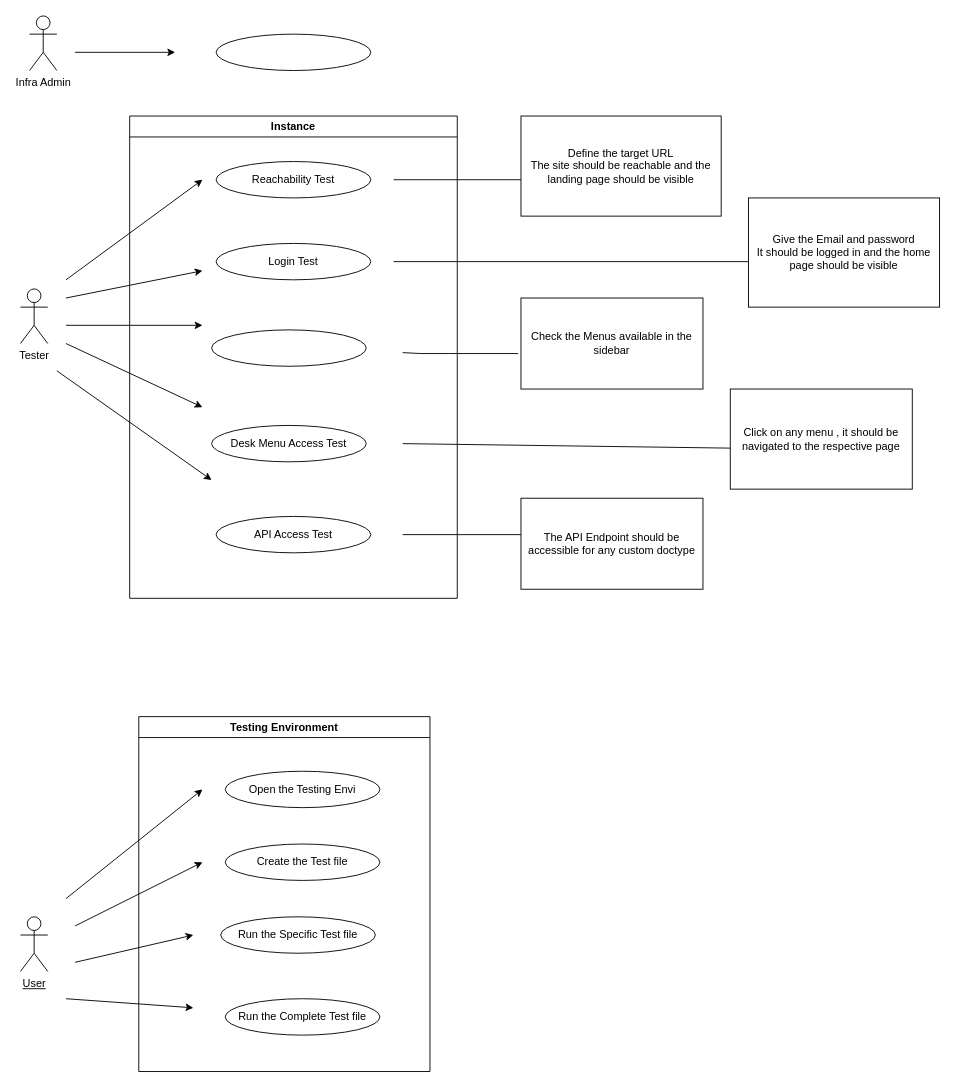
Image size: 956x1087. Some labels were removed from this diagram. The centre of each missing label's shape, as x and y in pixels:
Desk Menu Test: (288,347)
Upgrade/Migrate: (293,52)
